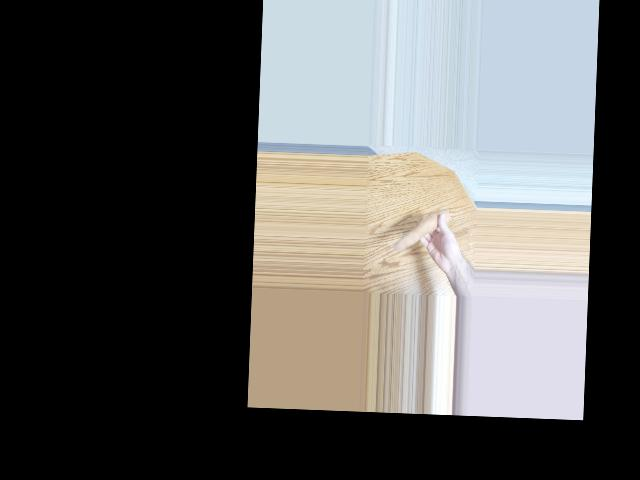sweet_potato: (393, 210, 449, 254)
